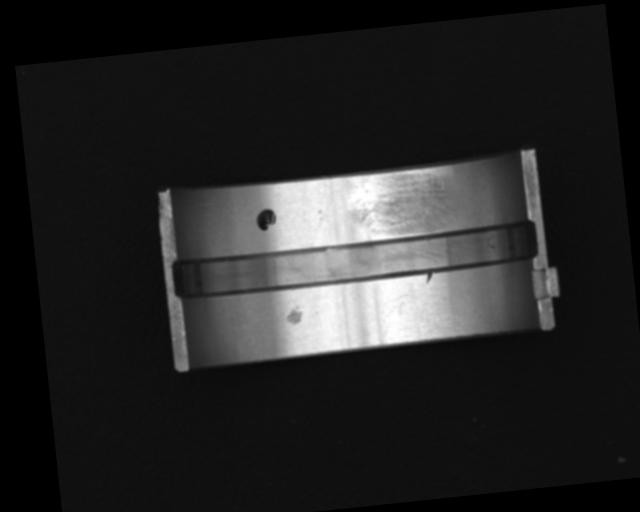blot: (254, 206, 276, 233)
bruise: (282, 302, 304, 327), (424, 271, 433, 285)
gap: (168, 220, 542, 300)
scratch: (344, 166, 457, 240)
